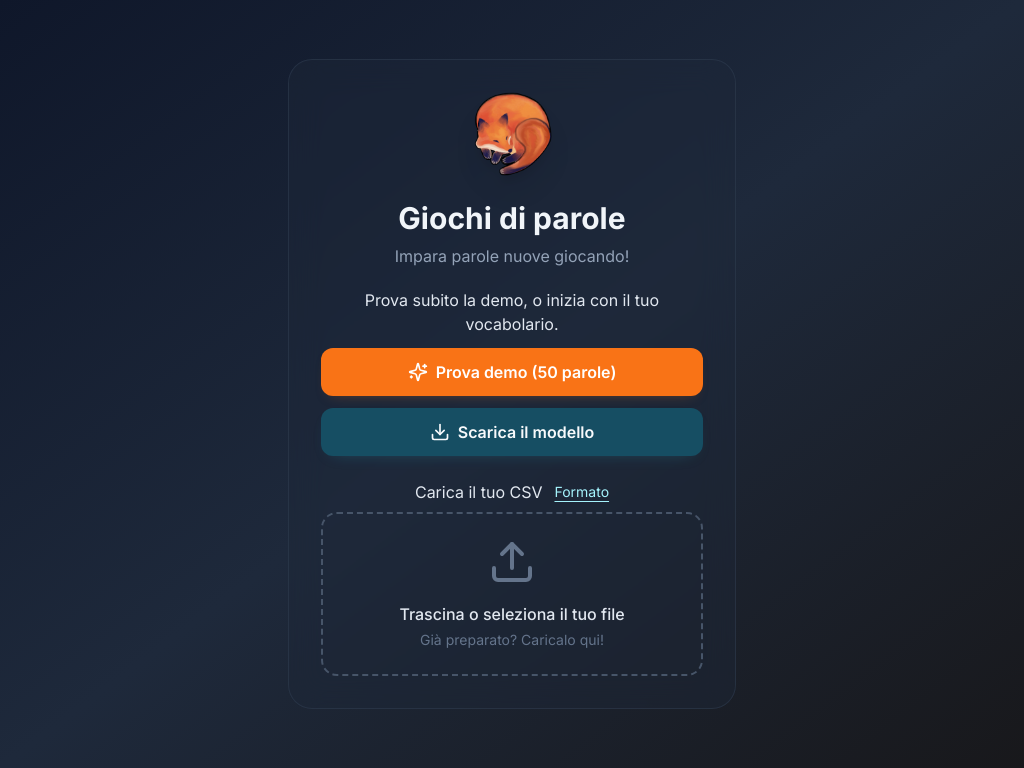
Test: Giochi di Parole - Test Funzionalità Critiche › 2. Modale Formato CSV › dovrebbe aprire e chiudere il modale formato CSV
Apri modale formato
Step 1. Click the button with aria-label "Formato CSV e istruzioni" → (582, 492), box [554,482,609,502]
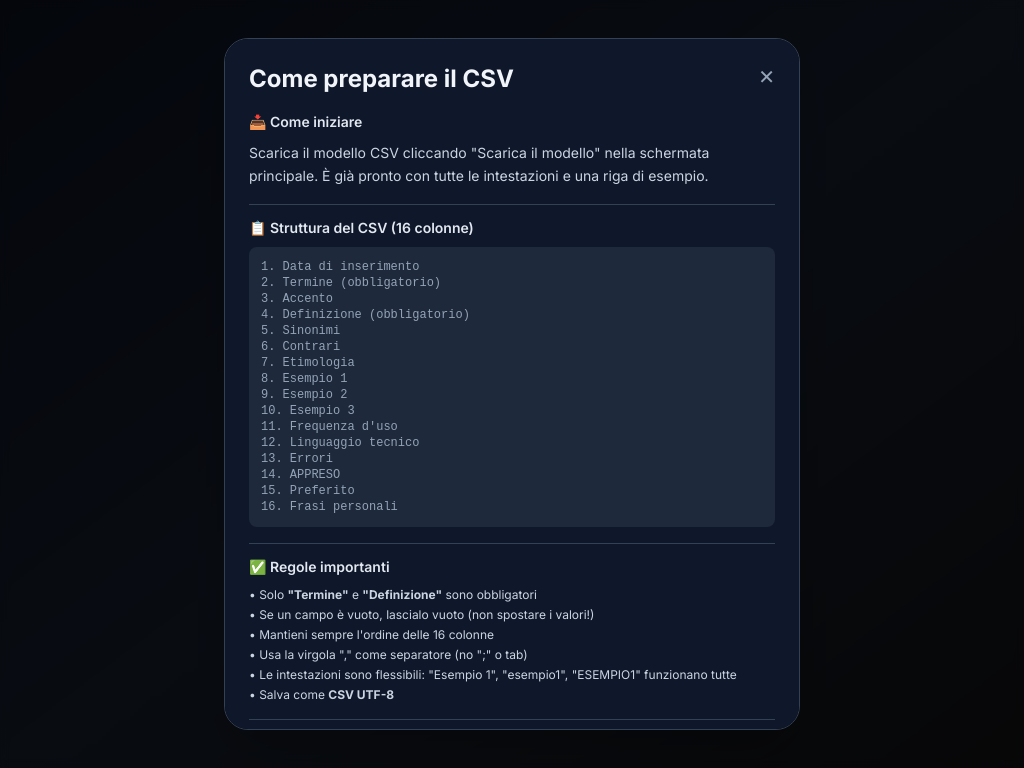
expect the heading "Come preparare il CSV" is shown: met, box [249,63,514,95]
Chiudi modale
Step 2. Click the button "✕" → (767, 77), box [758,63,775,91]
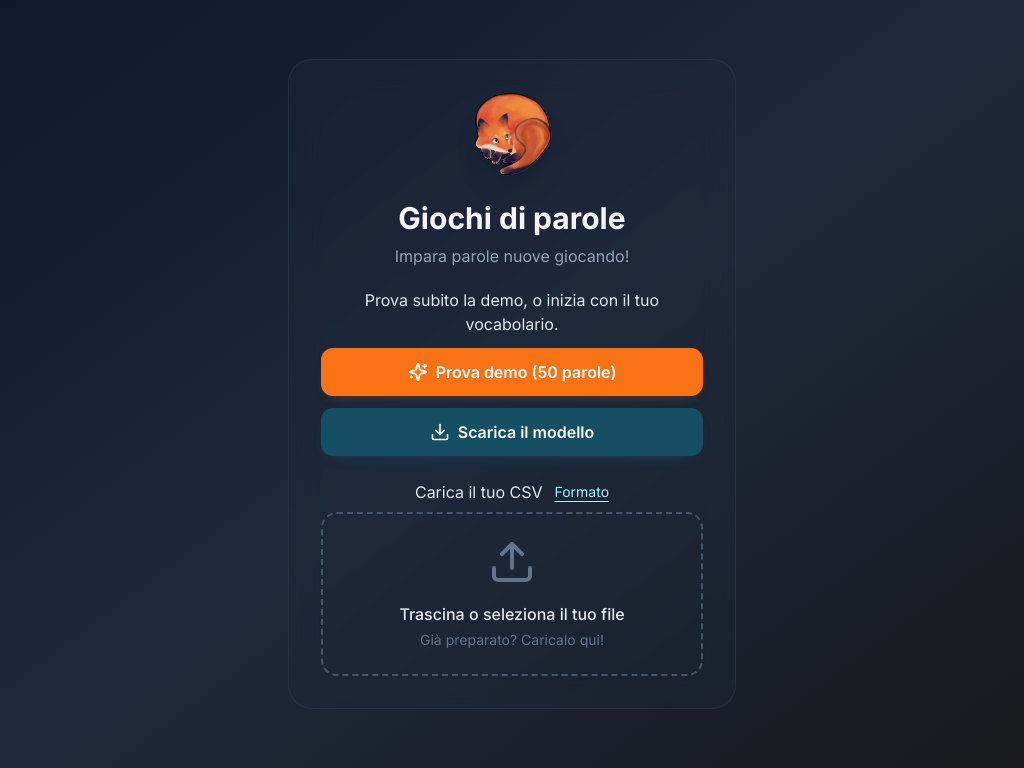
expect the heading "Come preparare il CSV" is gone: met
